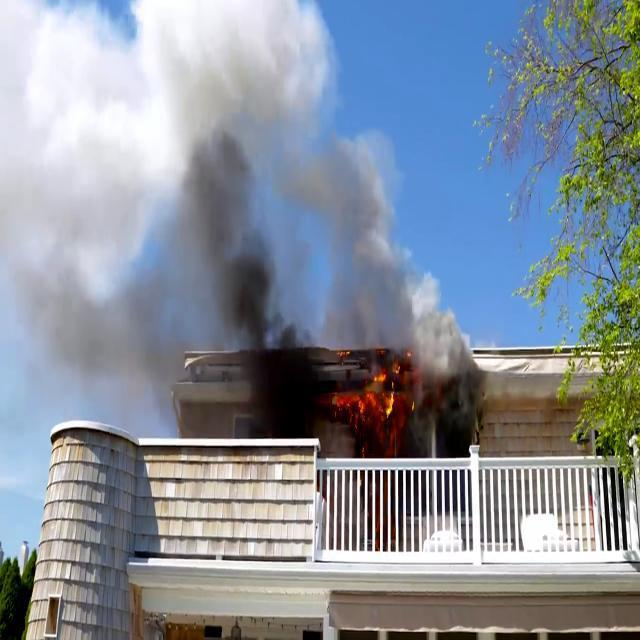Fire: (329, 368, 396, 432)
Smoke: (8, 0, 300, 420), (334, 156, 496, 447)
